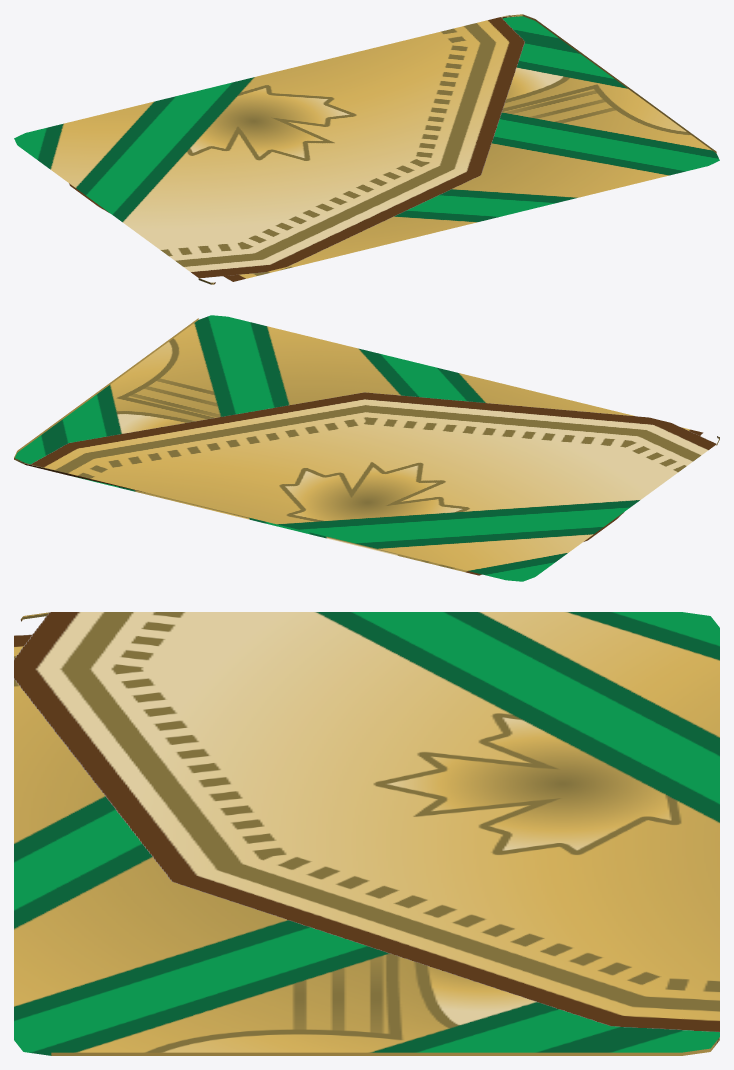
The model's file is SM_Trinket_PoostoCard.fbx.
The picture shows the model from 3 angles, top to bottom: view 1: azimuth 30°, elevation 25°; view 2: azimuth 150°, elevation 25°; view 3: azimuth 270°, elevation 25°; orthographic projection. The views are drawn at different scales.
Visible parts, largest first — view 1: SM_Trinket_PoostoCard; view 2: SM_Trinket_PoostoCard; view 3: SM_Trinket_PoostoCard.
Boxes of the visible parts, x1,y1,x2,y2 form: SM_Trinket_PoostoCard: (14,14,719,284); SM_Trinket_PoostoCard: (14,315,719,581); SM_Trinket_PoostoCard: (14,612,719,1055).
Bounding box in the file's own units: 0.1708 × 0.1157 × 0.000612.
